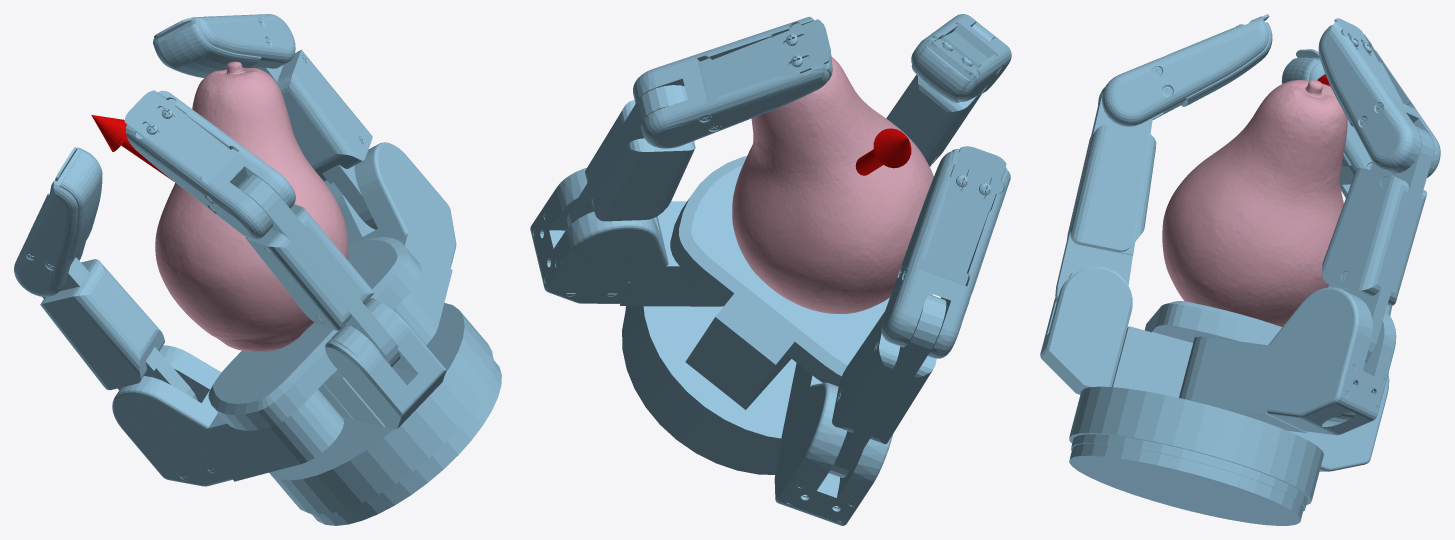
3 renders of one model, left to right at view 1: azimuth 30°, elevation 25°; view 2: azimuth 150°, elevation 25°; view 3: azimuth 270°, elevation 25°, orthographic. The views are drawn at different scales.
Visible parts, largest first — view 1: world, pear.stl; view 2: world, pear.stl; view 3: world, pear.stl.
Boxes of the visible parts, left/top/right/bottom form: world: left=14, top=14, right=501, bottom=525; pear.stl: left=155, top=61, right=348, bottom=352; world: left=530, top=14, right=1011, bottom=525; pear.stl: left=732, top=56, right=933, bottom=313; world: left=1040, top=14, right=1440, bottom=525; pear.stl: left=1162, top=80, right=1347, bottom=326.
Size of the model in its own units: 0.1705 by 0.1828 by 0.1419.
